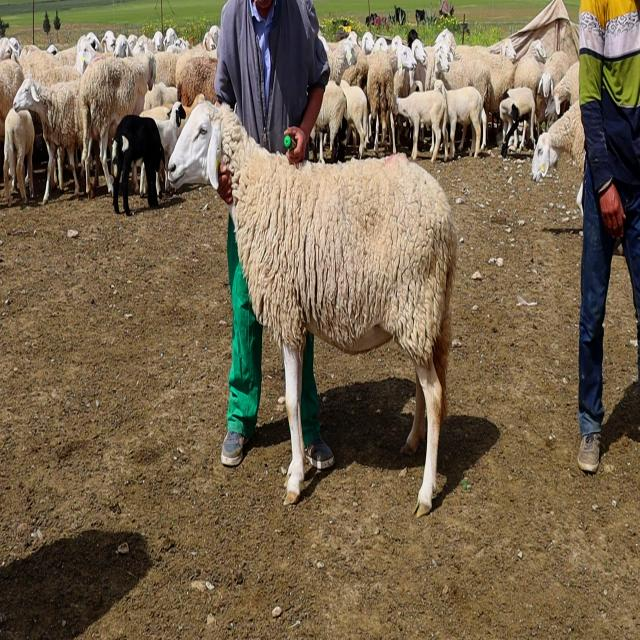Score_3: (166, 101, 458, 516)
